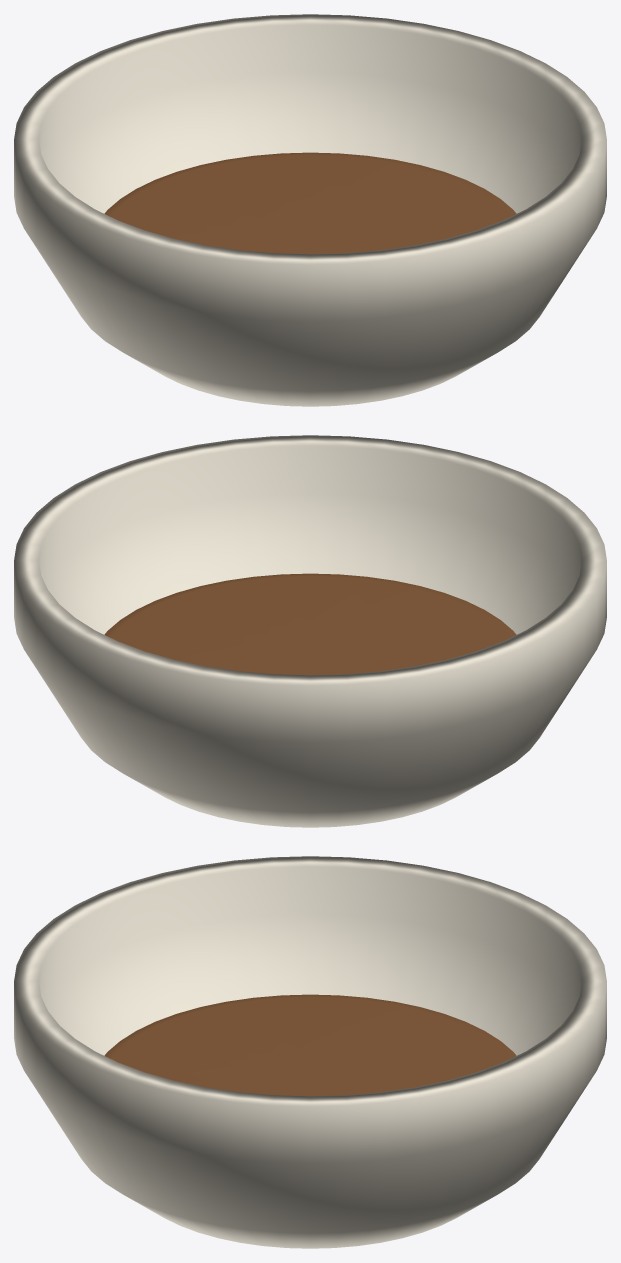
Rendered from coffee-roastery-and-cupping-room-coffee-roastery-and-c-ac69ea26__32210.glb.
3 views of the same model, one above another, from view 1: azimuth 30°, elevation 25°; view 2: azimuth 150°, elevation 25°; view 3: azimuth 270°, elevation 25° (orthographic).
Parts seen in each view (by area): view 1: coffee-roastery-and-cupping-room-cupping-bowl; view 2: coffee-roastery-and-cupping-room-cupping-bowl; view 3: coffee-roastery-and-cupping-room-cupping-bowl.
Part boxes in pixels (x1=…): coffee-roastery-and-cupping-room-cupping-bowl: x1=14, y1=14, x2=606, y2=406; coffee-roastery-and-cupping-room-cupping-bowl: x1=14, y1=435, x2=606, y2=827; coffee-roastery-and-cupping-room-cupping-bowl: x1=14, y1=856, x2=606, y2=1248.
Size of the model in its own units: 0.19 by 0.067 by 0.19.
